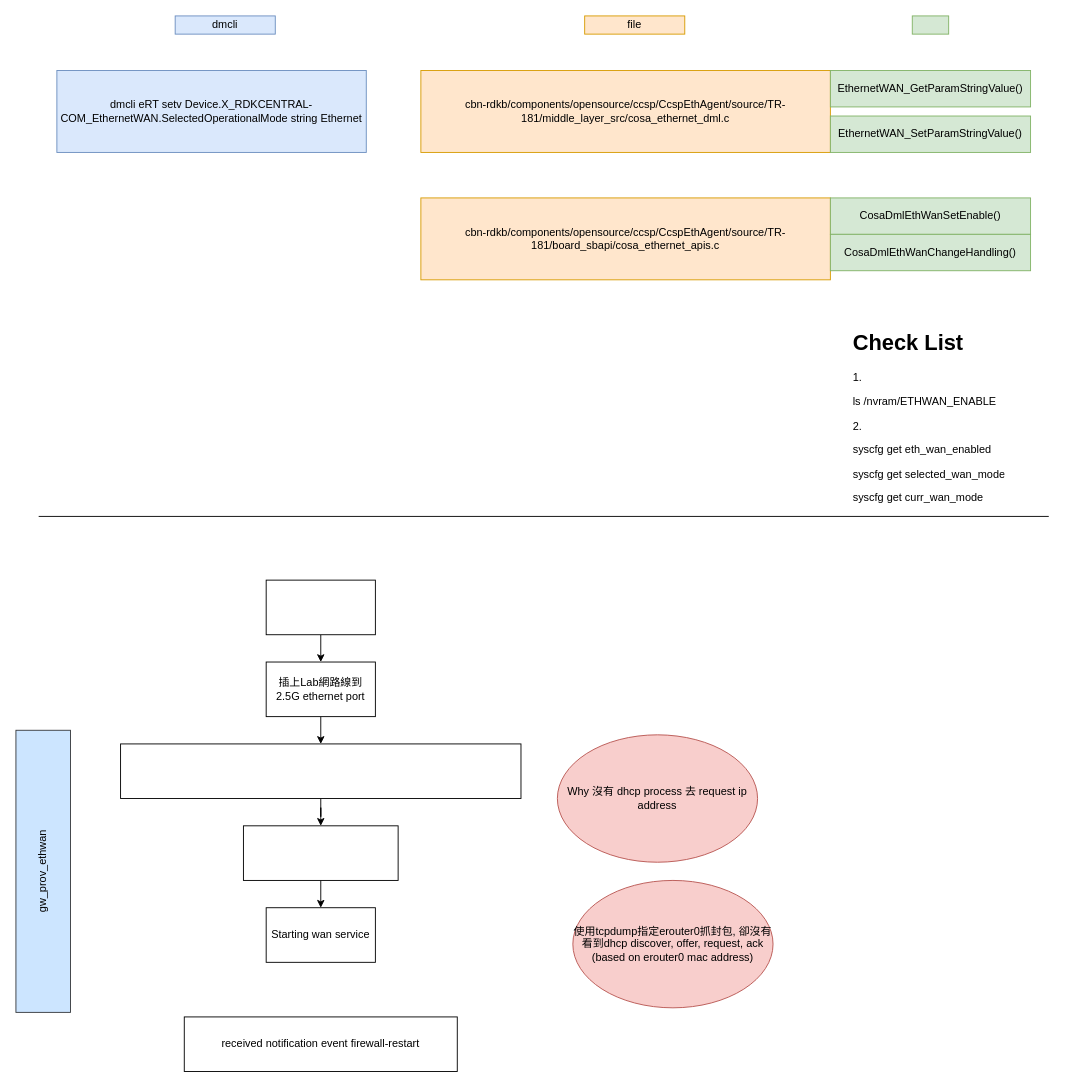
Some shapes in this 1066 by 1087 pixel diagram are drawn without their labels. Each missing label, with the centre of its shape:
"ethwanLinkMonitor - ethwan interface = nsgmii0, link status change [0 to 1]" belongs at point 320,771.
"function" belongs at point 930,24.
"wanPhyName = erouter0" belongs at point 320,852.
"重新開機後" belongs at point 320,607.
